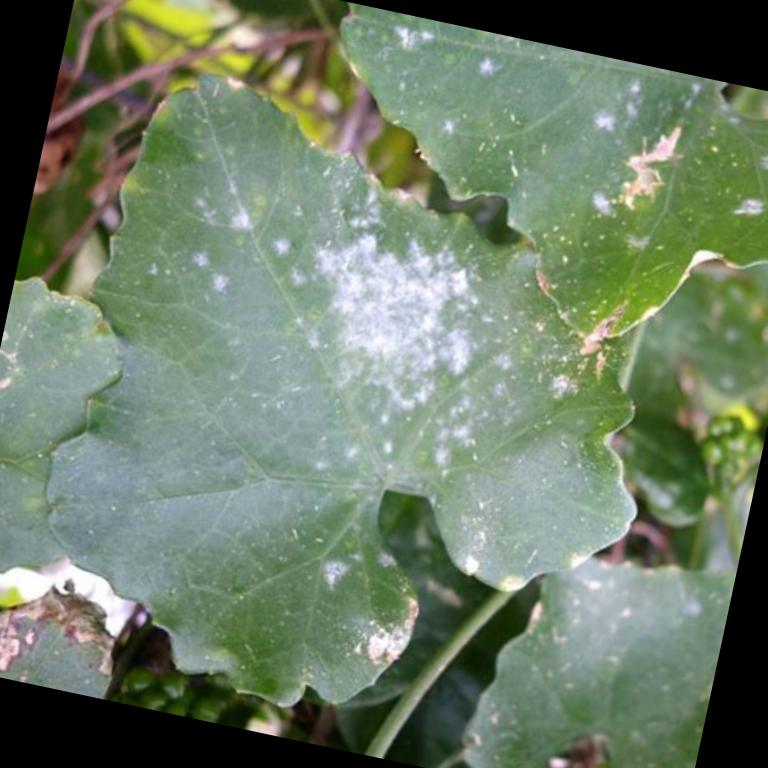powdery-mildew: (242, 215, 519, 460)
